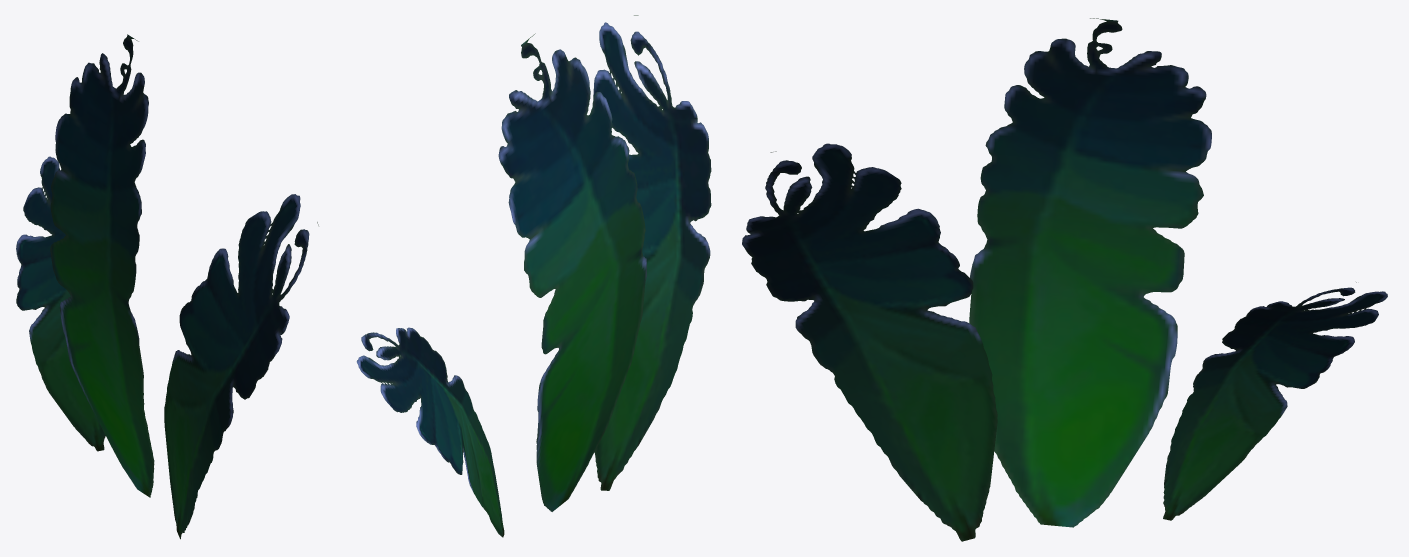
The model's file is scenes_cave_plant01.FBX.
3 renders of one model, left to right at view 1: azimuth 30°, elevation 25°; view 2: azimuth 150°, elevation 25°; view 3: azimuth 270°, elevation 25°, orthographic. The views are drawn at different scales.
Visible parts, largest first — view 1: scenes_cave_plant01; view 2: scenes_cave_plant01; view 3: scenes_cave_plant01.
Boxes of the visible parts, x1=… form: scenes_cave_plant01: x1=16, y1=34, x2=318, y2=539; scenes_cave_plant01: x1=356, y1=15, x2=711, y2=537; scenes_cave_plant01: x1=742, y1=18, x2=1387, y2=541.
Bounding box in the file's own units: 71.33 × 279 × 308.
